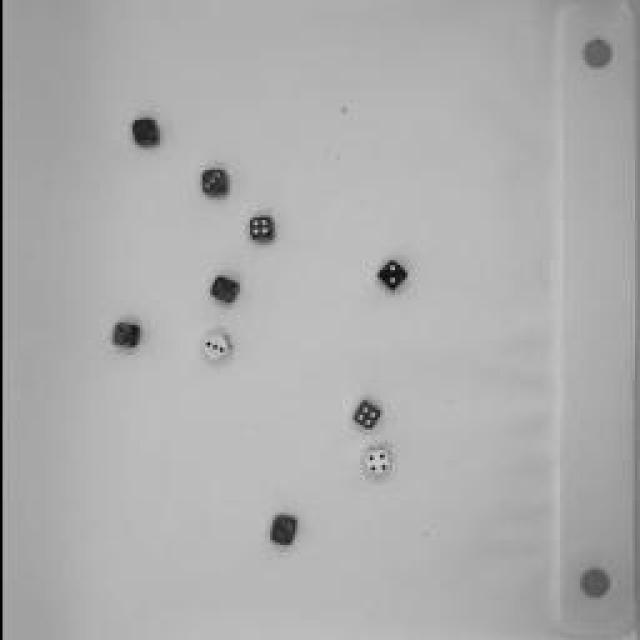dice_1: (125, 112, 160, 152)
dice_2: (259, 505, 299, 550), (106, 318, 149, 358), (203, 265, 245, 305), (372, 248, 410, 292)
dice_3: (196, 162, 232, 202), (198, 330, 232, 362)
dice_4: (345, 390, 385, 435), (358, 442, 398, 480), (243, 210, 275, 250)
